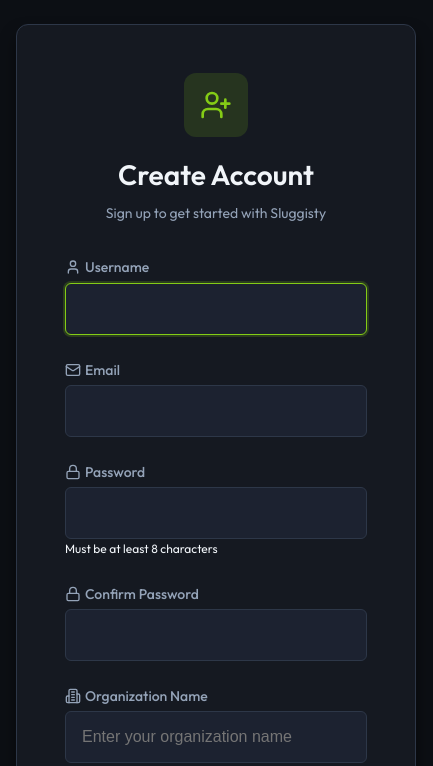
Test: Register › enables submit when all fields are filled
This screenshot has width=433, height=766.
Type "testuser" into the field labelled "Username". click: (216,309)
box: [65,283,367,335]
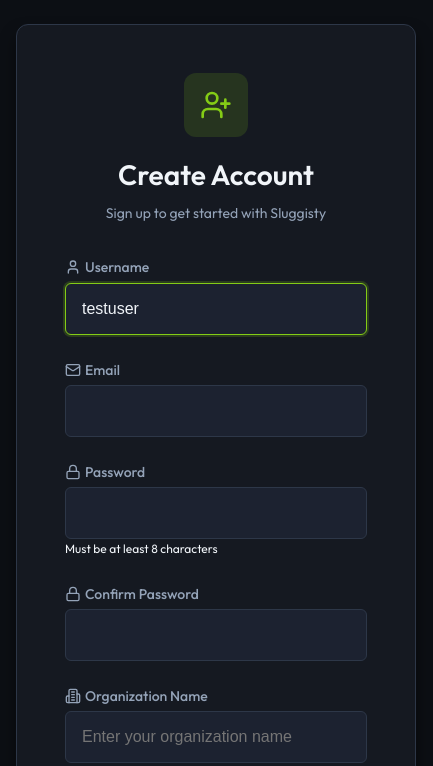
Type "test@example.com" into the field labelled "Email". click: (216,411)
box: [65,385,367,437]
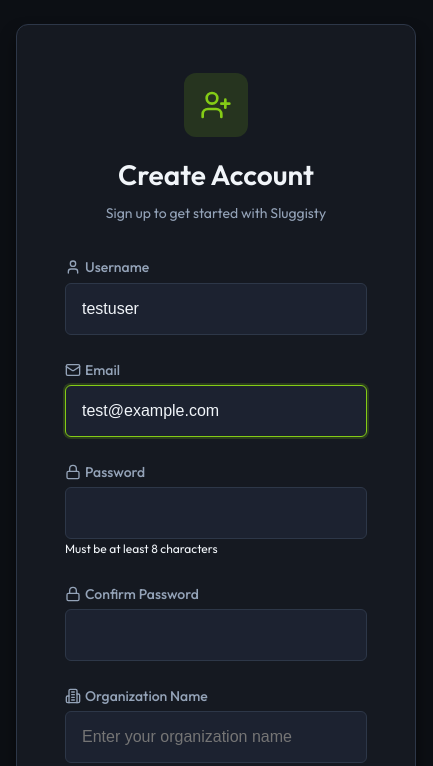
Type "StrongP@ss123" into the password field labelled "Password". click: (216,513)
box: [65,487,367,539]
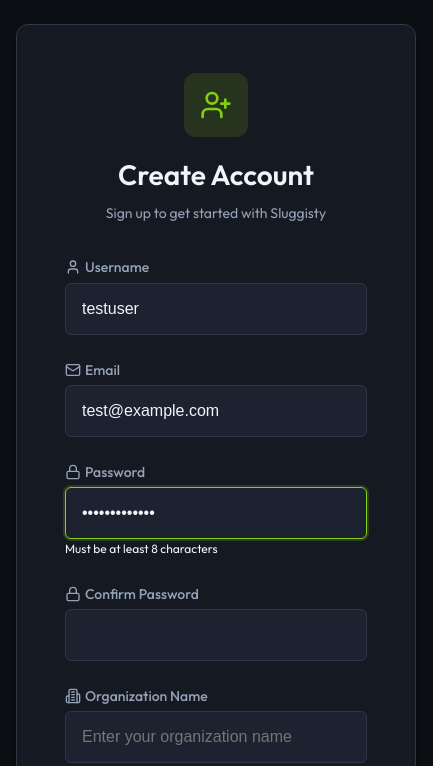
Type "StrongP@ss123" into the password field labelled "Confirm Password". click: (216,635)
box: [65,609,367,661]
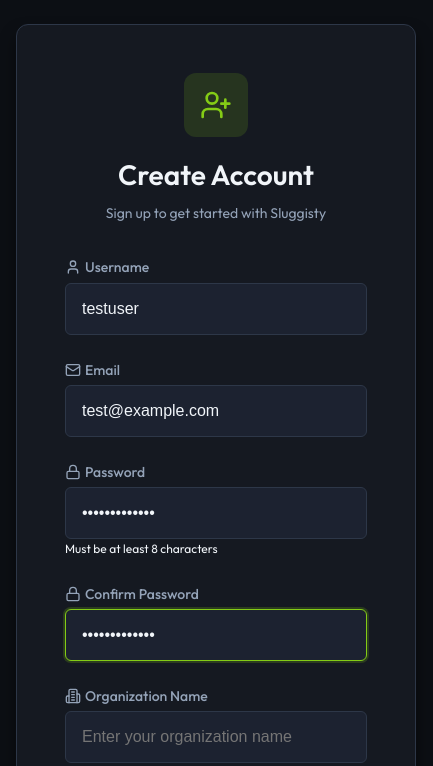
Type "Test Org" into the field labelled "Organization Name". click: (216,737)
box: [65,711,367,763]
(page scrolled)
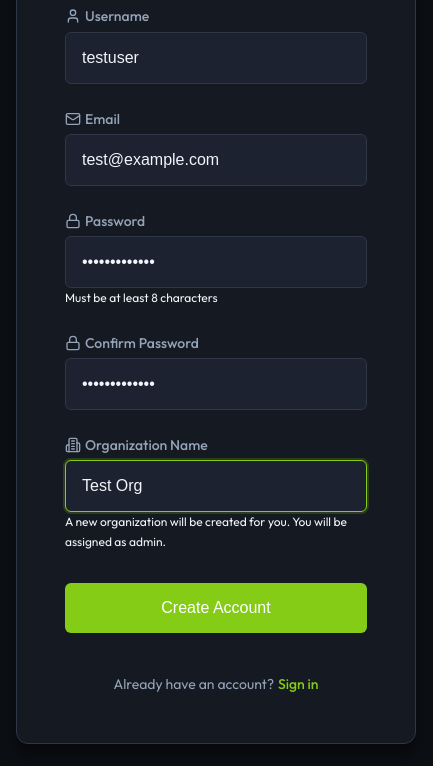
expect the button "Create Account" is enabled: met, box [65,583,367,633]
